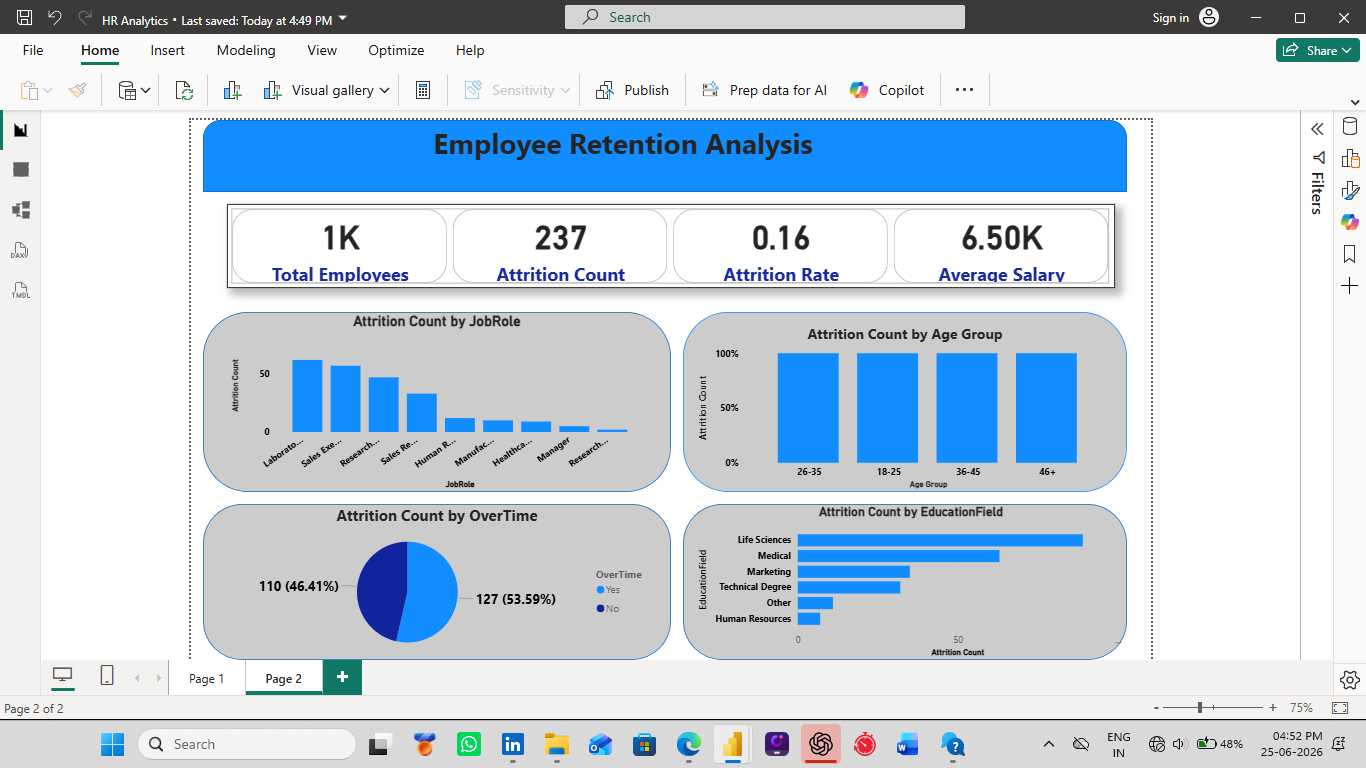

This screenshot's page, from the dashboard's own definition file:
{"tool":"powerbi","page":{"name":"Page 2","canvas":[1280,720],"ordinal":1},"visuals":[{"type":"cardVisual","fields":{"Data":["HR_Data.Total Employees","HR_Data.Attrition Count","HR_Data.Attrition Rate","HR_Data.Average Salary"]},"box":[48,112,1184,128],"z":0},{"type":"shape","box":[16,0,1232,96],"z":1000},{"type":"textbox","box":[288,0,576,80],"z":2000},{"type":"shape","box":[16,256,624,240],"z":3000},{"type":"shape","box":[656,256,592,240],"z":4000},{"type":"clusteredColumnChart","fields":{"Category":["HR_Data.JobRole"],"Y":["HR_Data.Attrition Count"]},"box":[48,256,560,240],"z":5000},{"type":"hundredPercentStackedColumnChart","fields":{"Category":["HR_Data.Age Group"],"Y":["HR_Data.Attrition Count"]},"box":[672,272,560,224],"z":6000},{"type":"shape","box":[16,512,624,208],"z":7000},{"type":"pieChart","fields":{"Category":["HR_Data.OverTime"],"Y":["HR_Data.Attrition Count"]},"box":[32,512,592,208],"z":8000},{"type":"shape","box":[656,512,592,208],"z":9000},{"type":"barChart","fields":{"Category":["HR_Data.EducationField"],"Y":["HR_Data.Attrition Count"]},"box":[672,512,576,208],"z":10000}]}

Visuals, with their boxes on the page's 1280x720 design canvas (x1, y1, x2, y2). These are canvas units, not pixel positions in the 1366x768 screenshot, which may show the page scaled, cropped or inside an application window:
cardVisual - HR_Data.Total Employees x HR_Data.Attrition Count: region(48, 112, 1232, 240)
shape: region(16, 0, 1248, 96)
textbox: region(288, 0, 864, 80)
shape: region(16, 256, 640, 496)
shape: region(656, 256, 1248, 496)
clusteredColumnChart - HR_Data.JobRole x HR_Data.Attrition Count: region(48, 256, 608, 496)
hundredPercentStackedColumnChart - HR_Data.Age Group x HR_Data.Attrition Count: region(672, 272, 1232, 496)
shape: region(16, 512, 640, 720)
pieChart - HR_Data.OverTime x HR_Data.Attrition Count: region(32, 512, 624, 720)
shape: region(656, 512, 1248, 720)
barChart - HR_Data.EducationField x HR_Data.Attrition Count: region(672, 512, 1248, 720)
